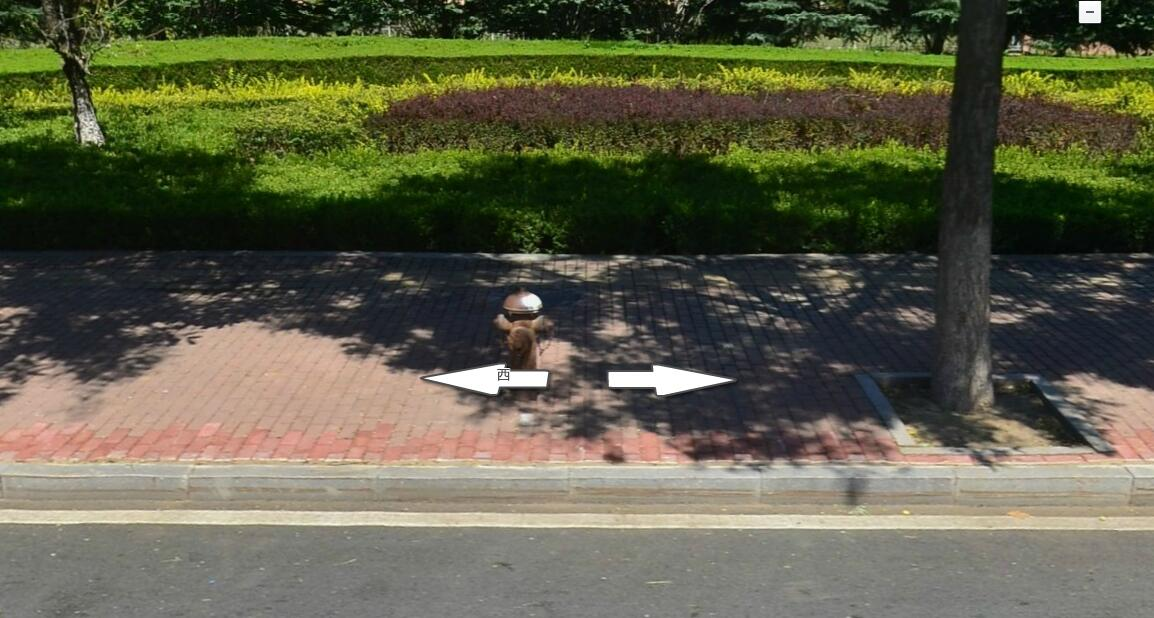side: (566, 466, 765, 505), (2, 462, 191, 503), (187, 465, 382, 503), (761, 466, 959, 502), (380, 466, 572, 503), (958, 467, 1136, 506)
